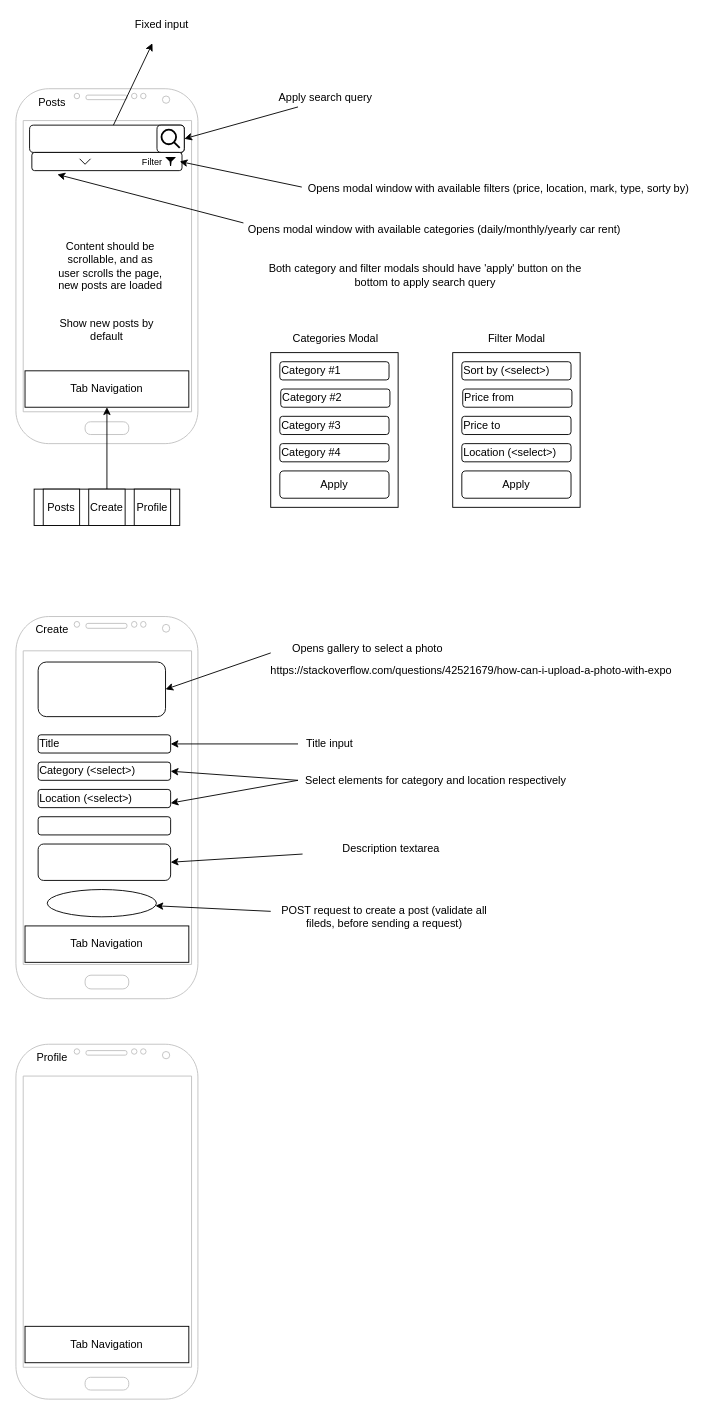
This 710x1415 diagram has some shape labels left out. The shapes that lost their labels are listed below. From the top down, each one's box as (x1, y1, x2, y2) in pixels, then its label:
(29, 124, 184, 152): Placeholder ...
(31, 152, 182, 171): Categories
(37, 661, 166, 717): Add photo
(37, 816, 171, 835): Contact phone
(37, 843, 171, 880): Description
(46, 889, 156, 917): Submit
